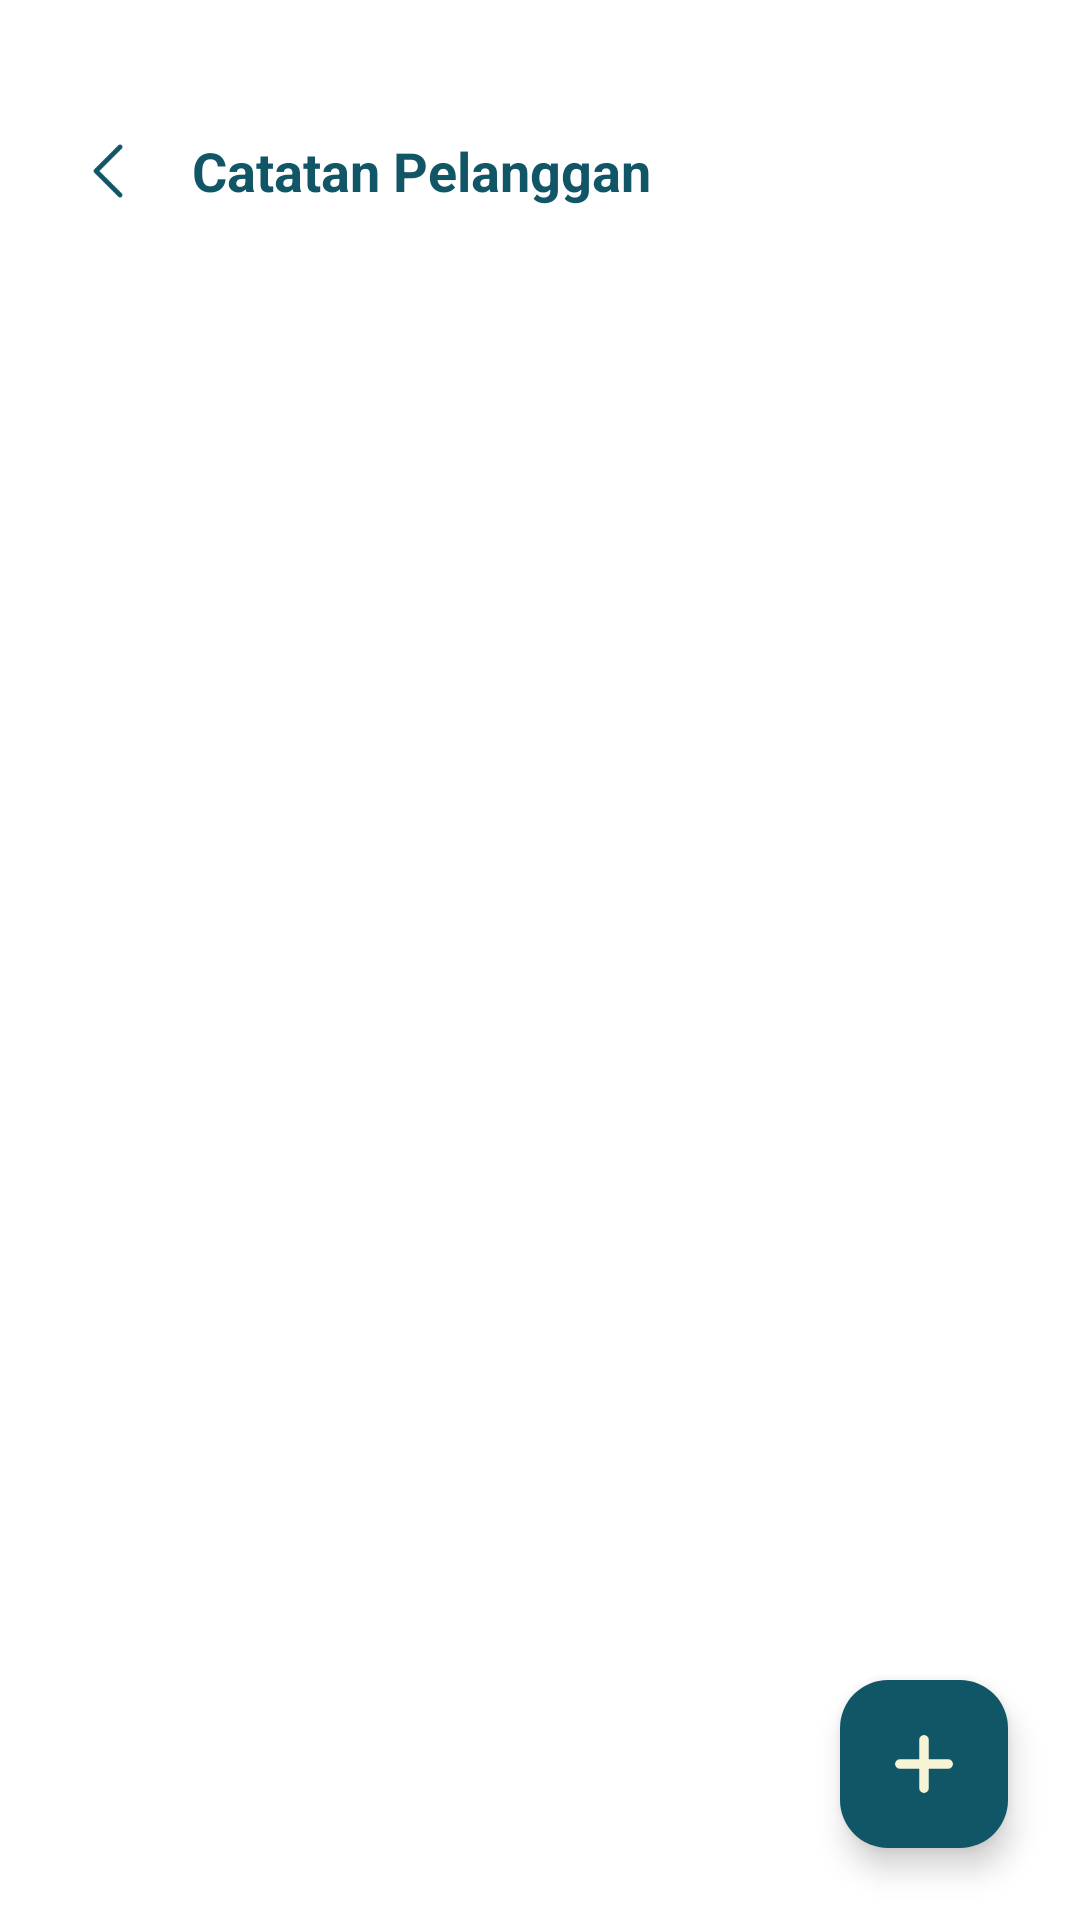

Point at icon controls on the screen. Image size 1080w x 1920h, points as point (x, y).
back: point (108, 171)
plus: point (924, 1764)
